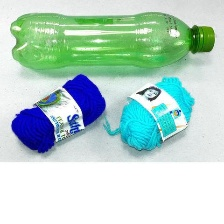bottle: (4, 8, 217, 73)
